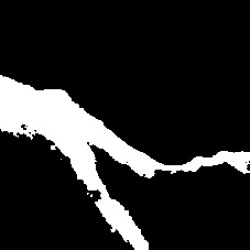crack: (1, 76, 249, 246)
